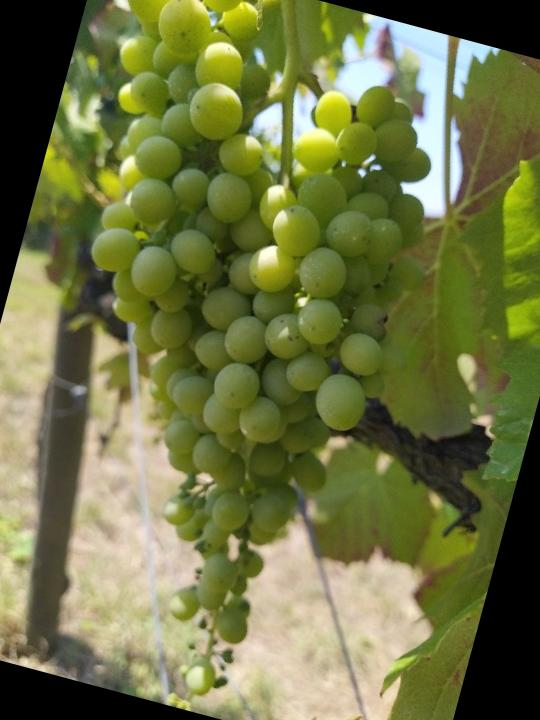grape: (0, 0, 473, 720)
